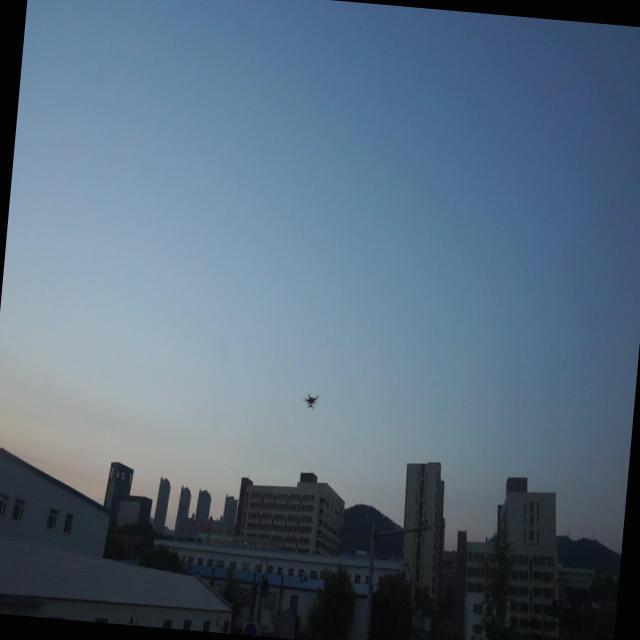drone: (300, 390, 322, 412)
